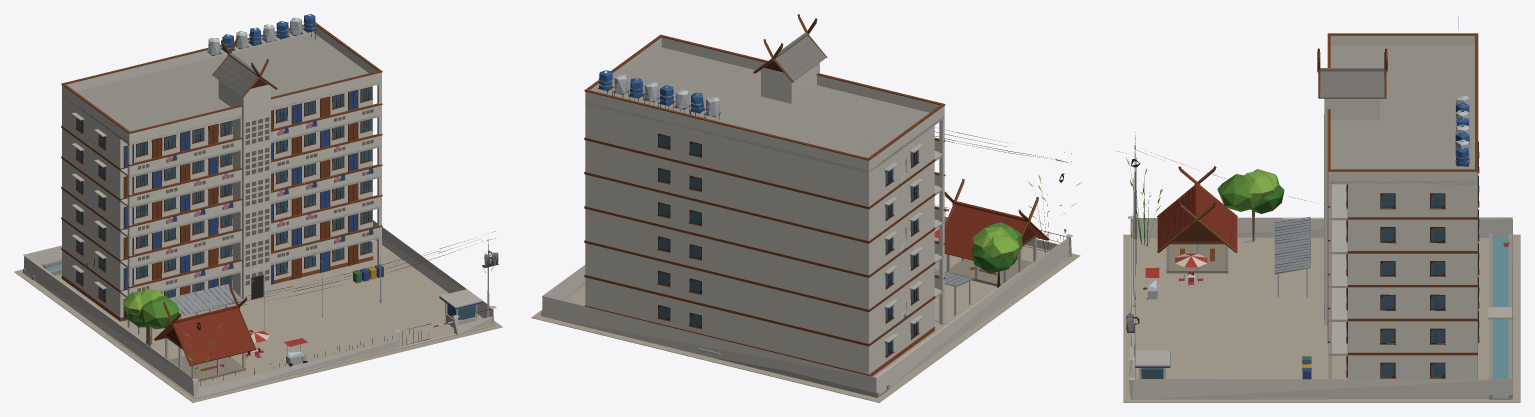
Rendered from home_5.glb.
The picture shows the model from 3 angles, left to right: view 1: azimuth 30°, elevation 25°; view 2: azimuth 150°, elevation 25°; view 3: azimuth 270°, elevation 25°; orthographic projection. The views are drawn at different scales.
Parts seen in each view (by area): view 1: body, windows; view 2: body, windows; view 3: body, windows.
Part boxes in pixels (x1,y1,x2,y2): body: (14,14,502,402); windows: (76,87,474,320); body: (531,14,1081,402); windows: (658,135,918,355); body: (1116,16,1520,402); windows: (1141,175,1478,378).
Bounding box in the file's own units: 32.44 × 23.67 × 32.78.
